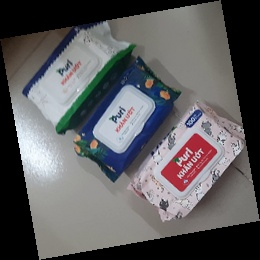Puri Trang: (20, 19, 135, 134)
Puri Xanh: (73, 57, 181, 184)
Puri hong: (127, 98, 248, 224)
